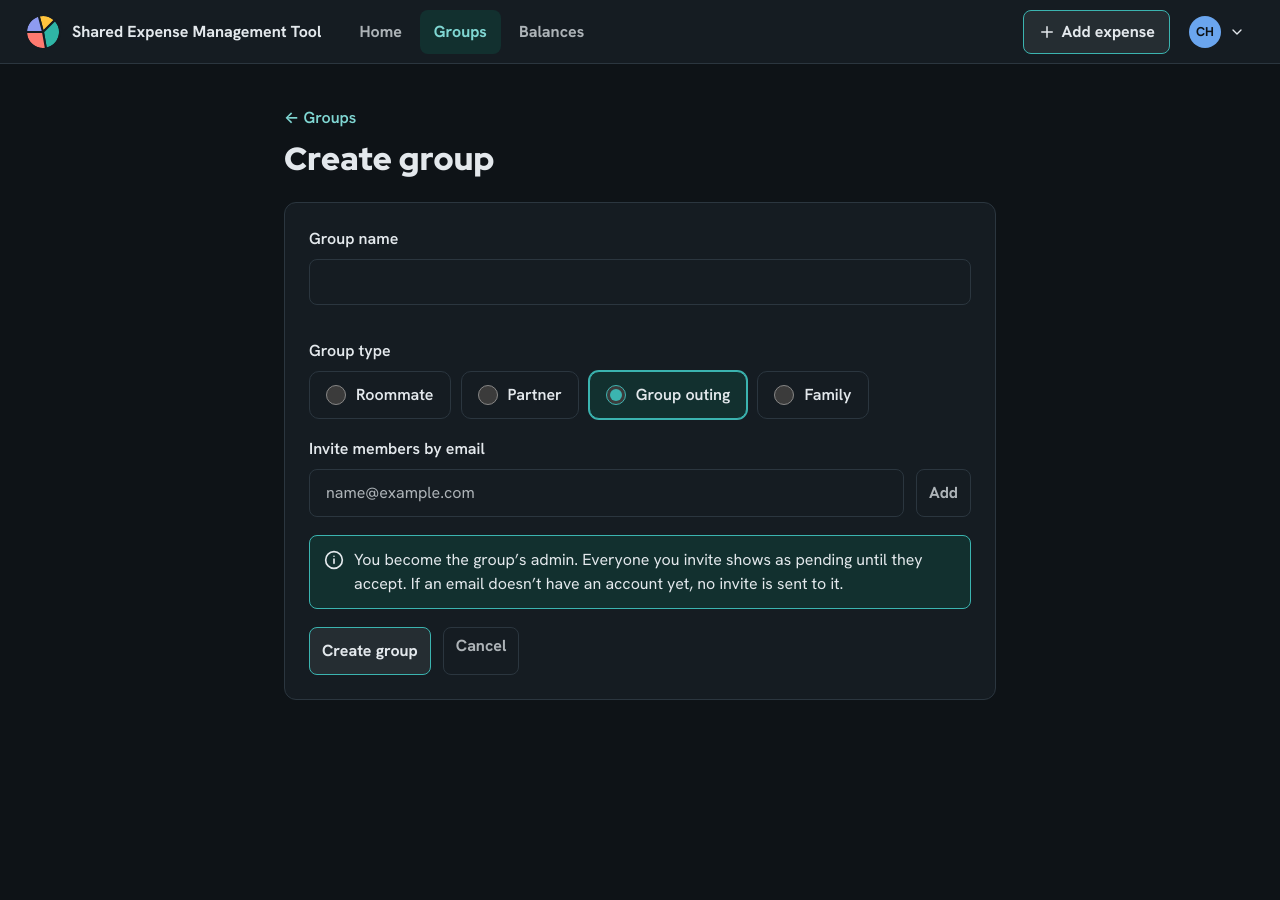
Test: Create group screen › invites everyone on the list after the group exists and says who is pending
This screenshot has width=1280, height=900.
Step 1. Type "Beach weekend" into the field labelled "Group name" → point(640, 282), box x1=309 y1=259 x2=971 y2=305
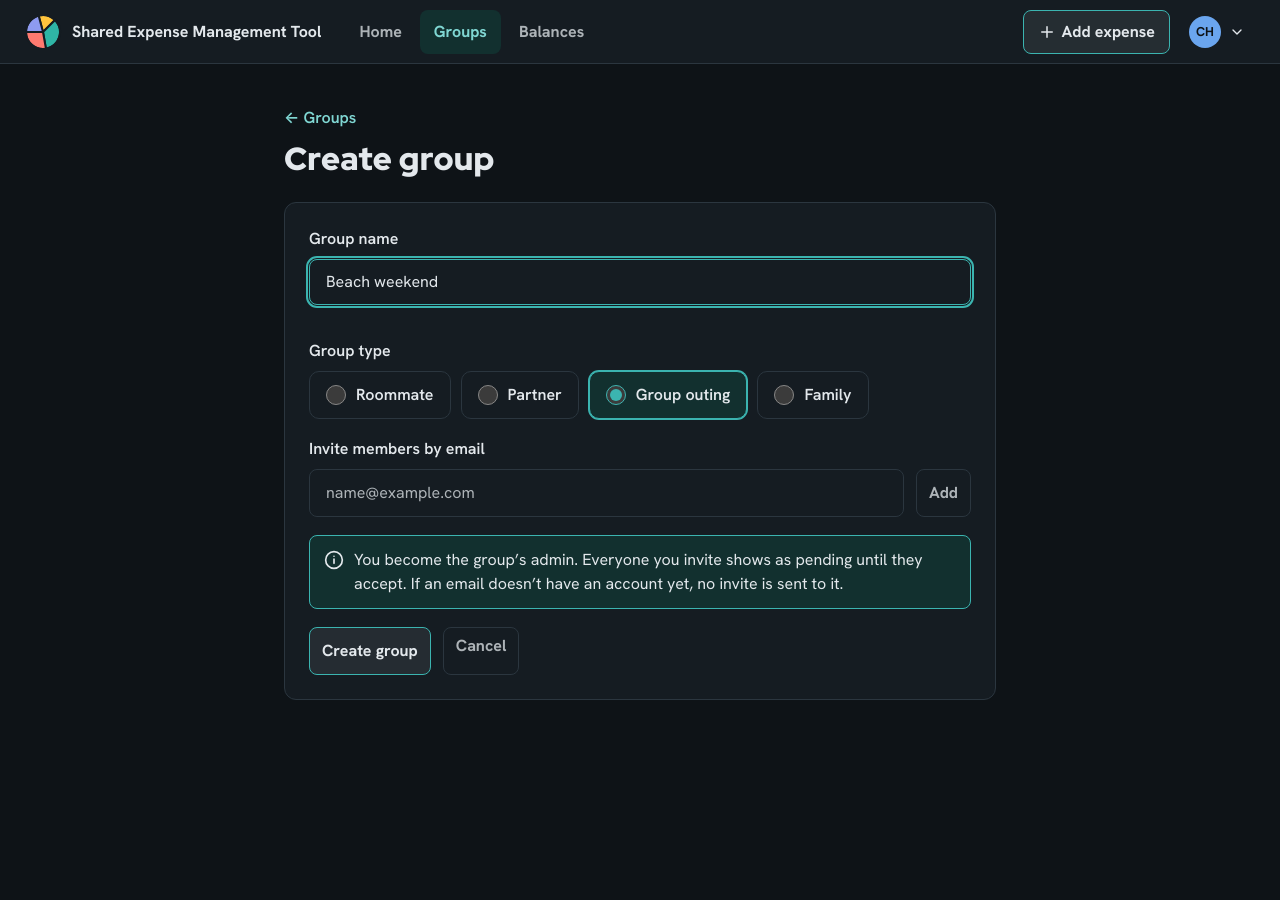
Step 2. Type "Maya@Example.com" into the field labelled "Invite members by email" → point(606, 493), box x1=309 y1=469 x2=904 y2=517
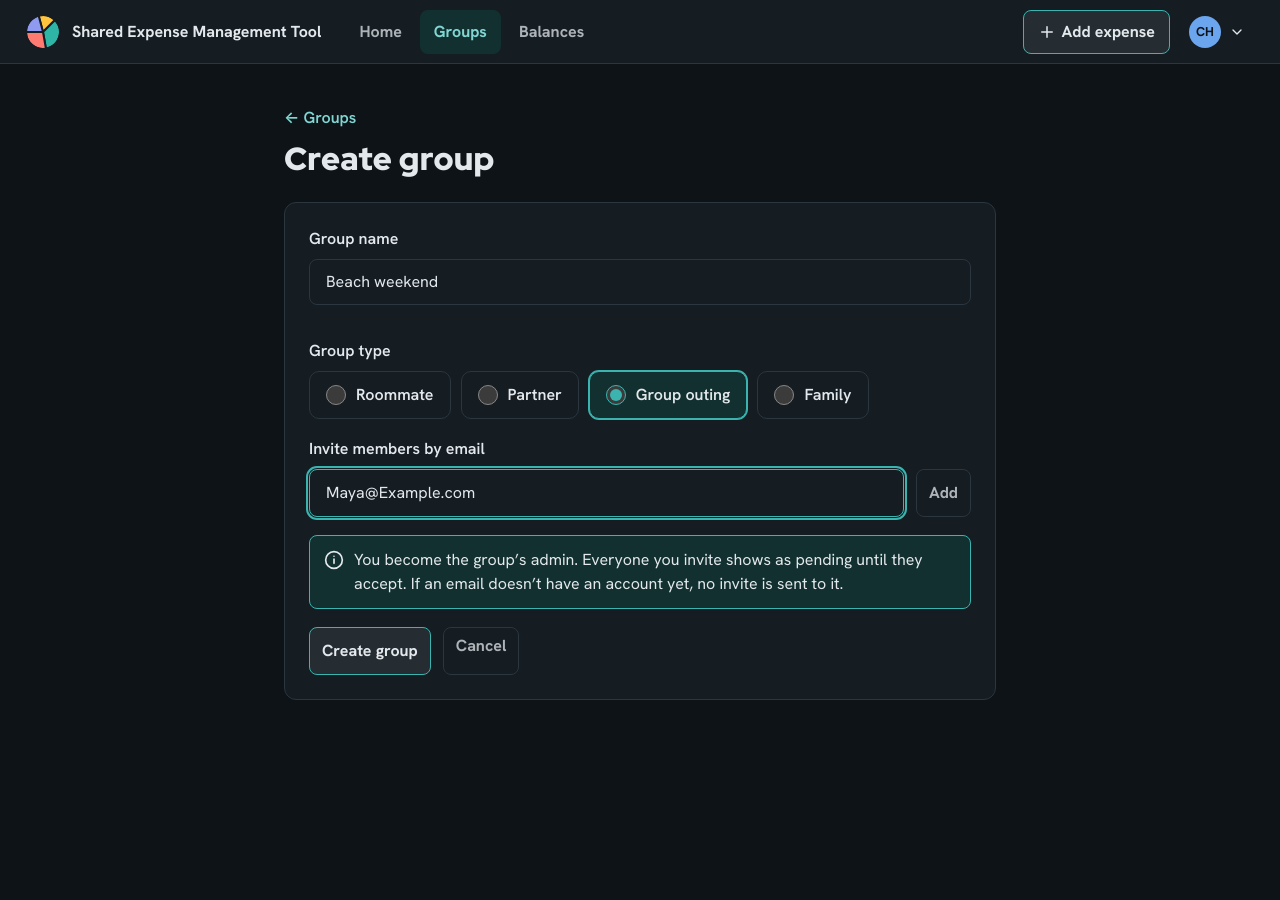
Step 3. Click the button "Add" → point(943, 493), box x1=916 y1=469 x2=971 y2=517
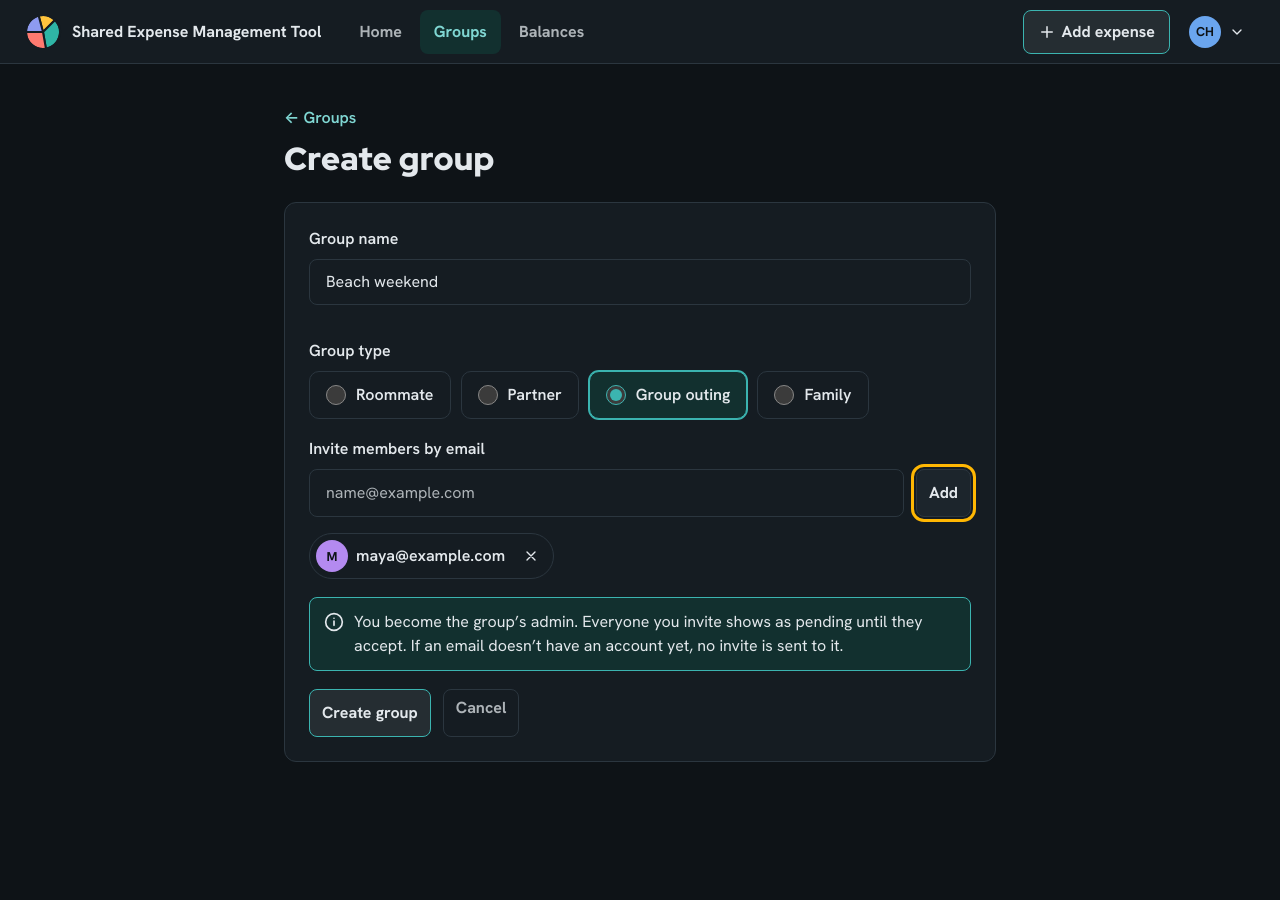
Step 4. Type "devin@example.com" into the field labelled "Invite members by email" → point(606, 493), box x1=309 y1=469 x2=904 y2=517
Then press Enter
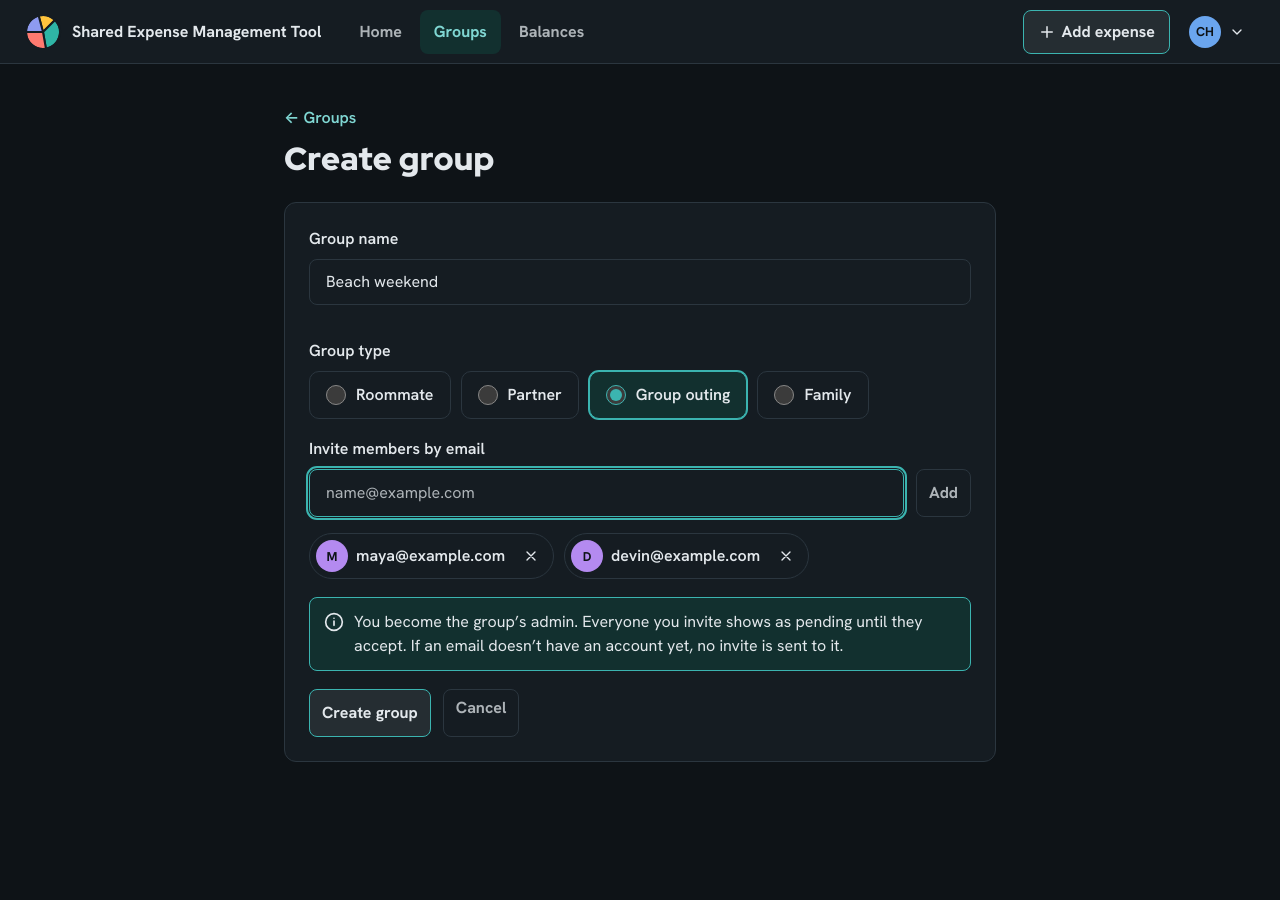
expect the number of list items is 2: met, box x1=309 y1=533 x2=554 y2=579; x1=564 y1=533 x2=809 y2=579
Step 5. Click the button "Create group" → point(370, 713), box x1=309 y1=689 x2=431 y2=737
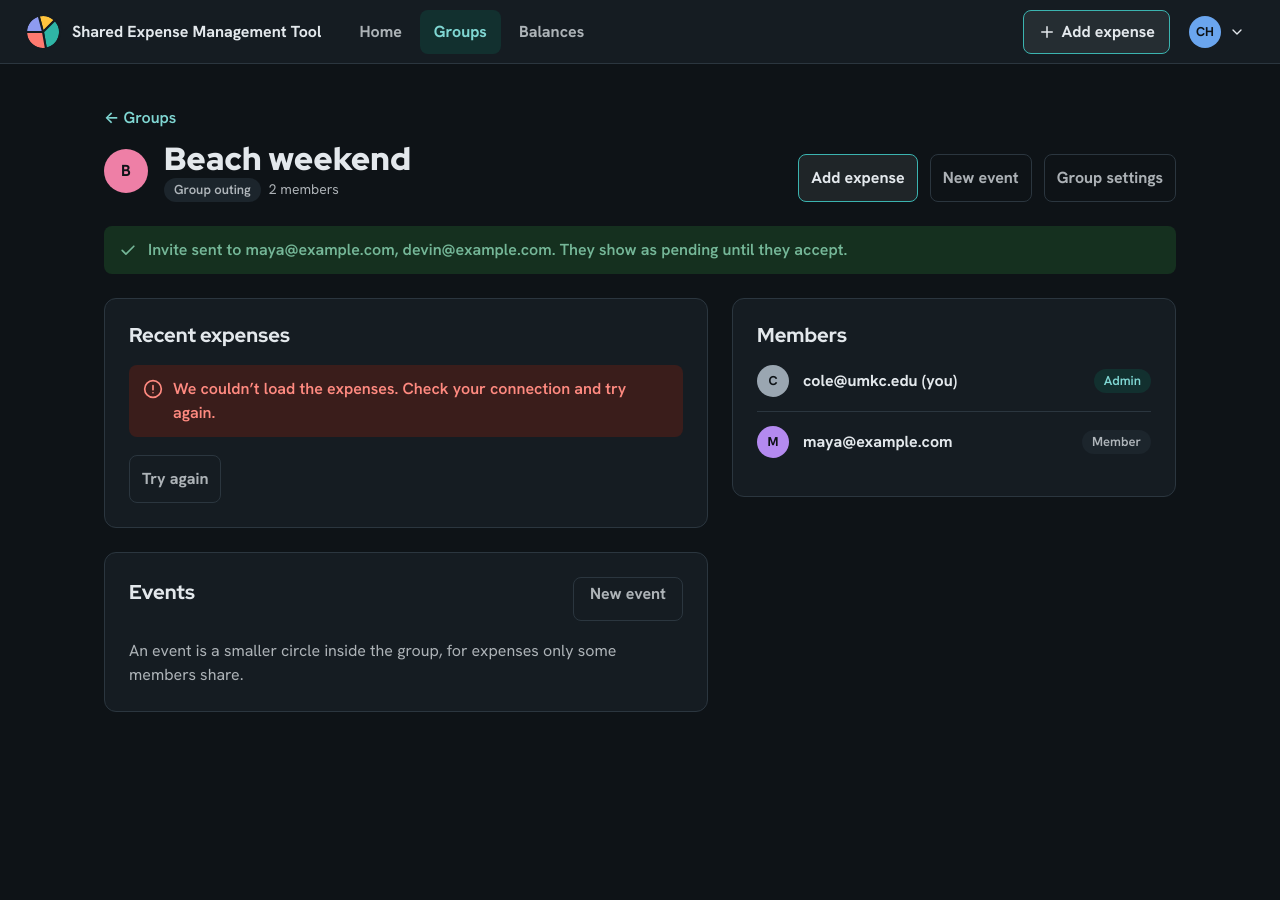
expect the text "Invite sent to maya@example.com, devin@example.com" is shown: met, box x1=148 y1=239 x2=847 y2=260
